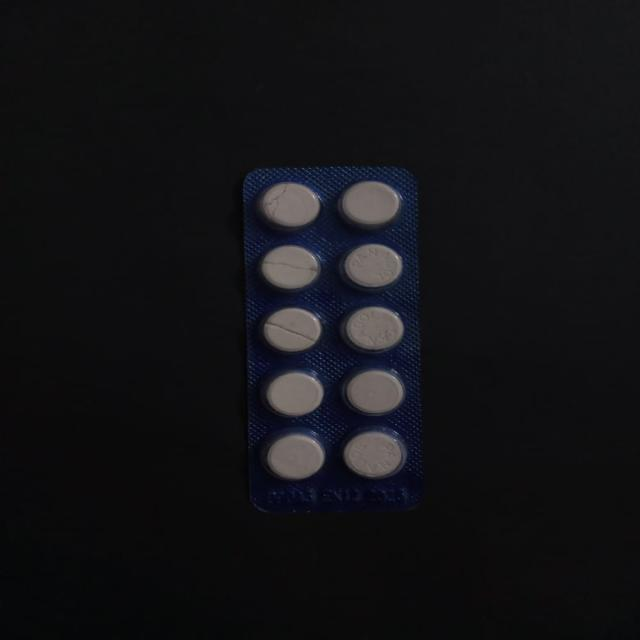defect: (257, 304, 329, 358), (255, 178, 324, 234), (257, 240, 325, 295)
